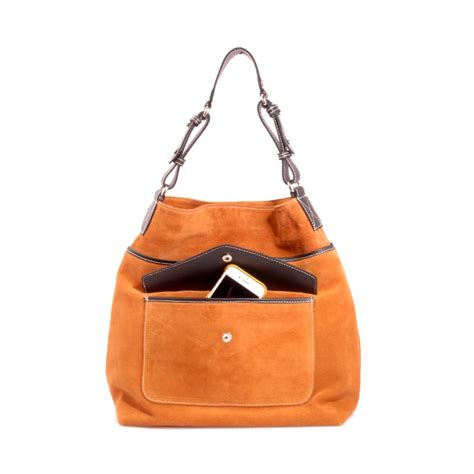gamuza: (106, 195, 362, 427)
